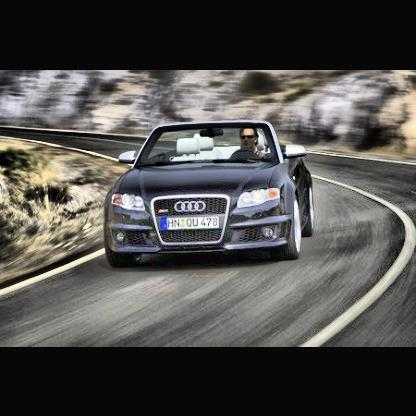Audi RS 4 Convertible 2008: (104, 121, 321, 270)
